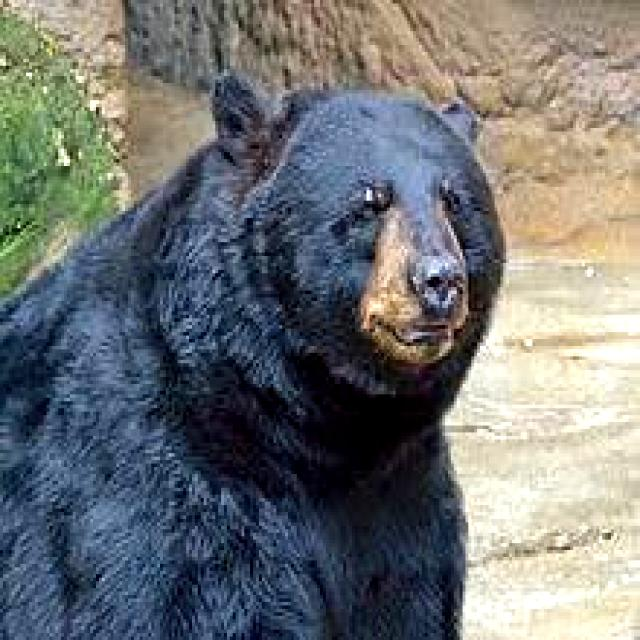bear: (0, 67, 524, 639)
